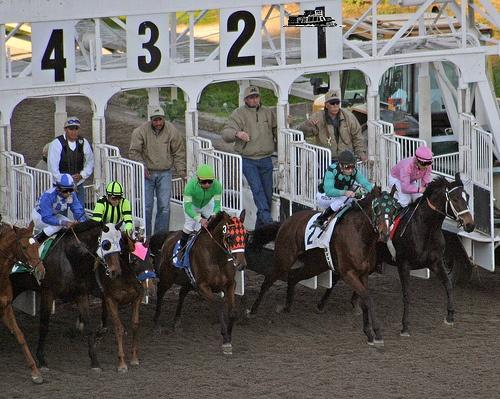tampered: (284, 11, 346, 27)
